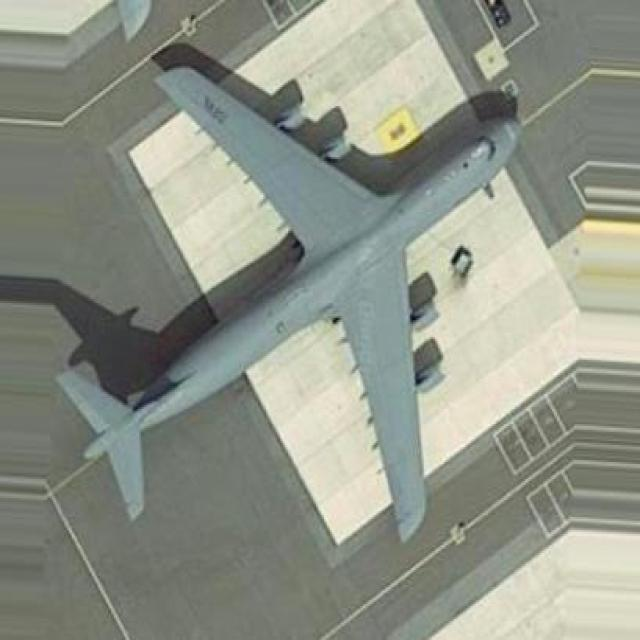C-5_TopDown: (54, 39, 530, 546)
